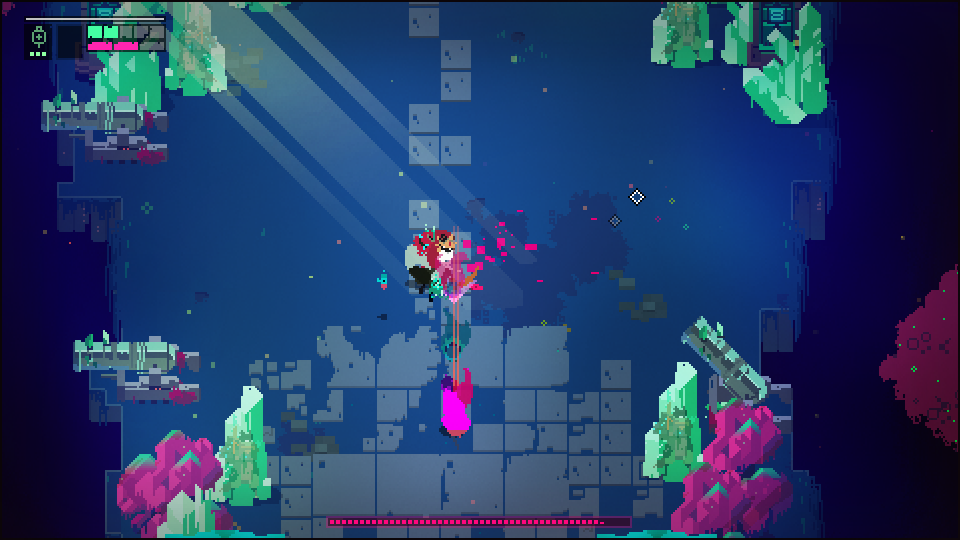hanged_man: (399, 220, 480, 300)
player: (439, 376, 475, 441)
